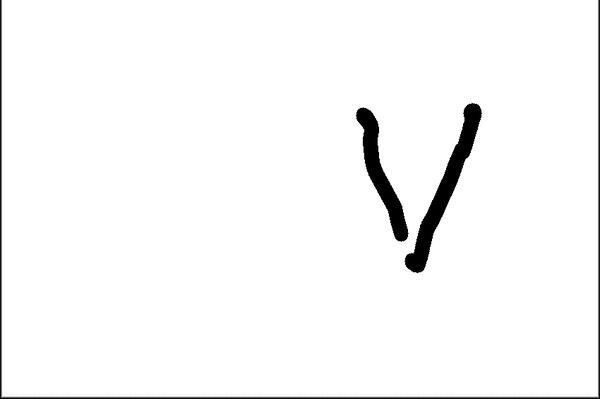V: (345, 100, 492, 280)
